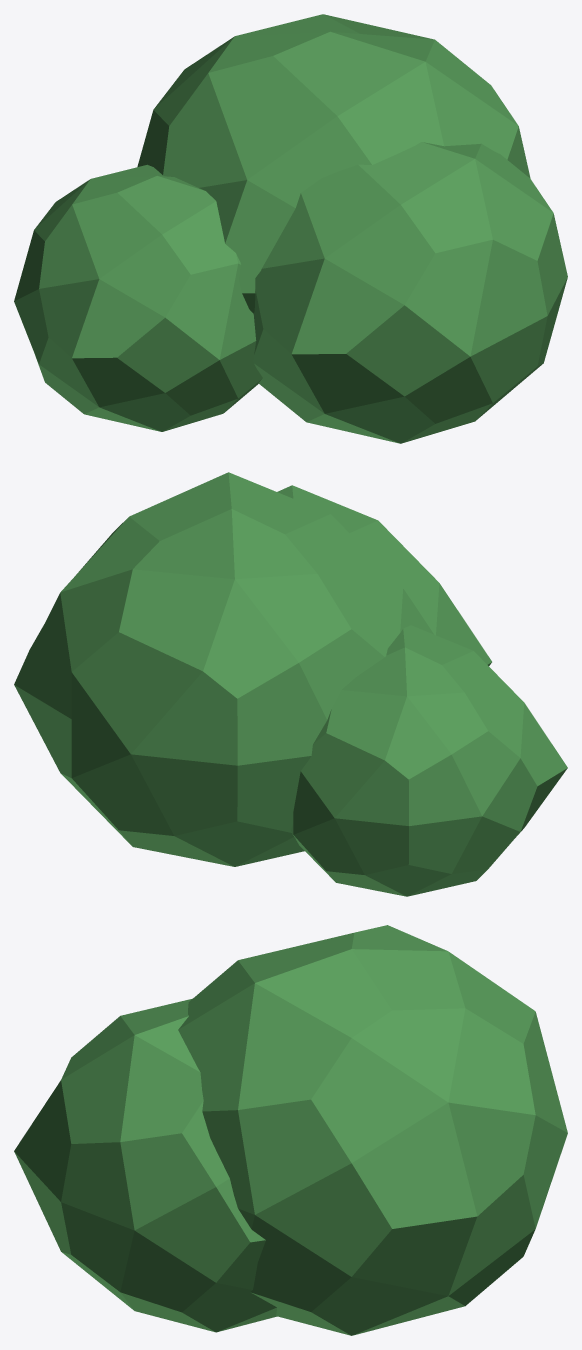
Rendered from Shrub3.fbx.
3 views of the same model, one above another, from view 1: azimuth 30°, elevation 25°; view 2: azimuth 150°, elevation 25°; view 3: azimuth 270°, elevation 25° (orthographic). The views are drawn at different scales.
Parts seen in each view (by area): view 1: Shrub10; view 2: Shrub10; view 3: Shrub10.
Part boxes in pixels (x1=…): Shrub10: x1=14, y1=14, x2=567, y2=443; Shrub10: x1=14, y1=472, x2=567, y2=896; Shrub10: x1=14, y1=925, x2=567, y2=1335.
Size of the model in its own units: 3.6 by 2.31 by 3.37.
